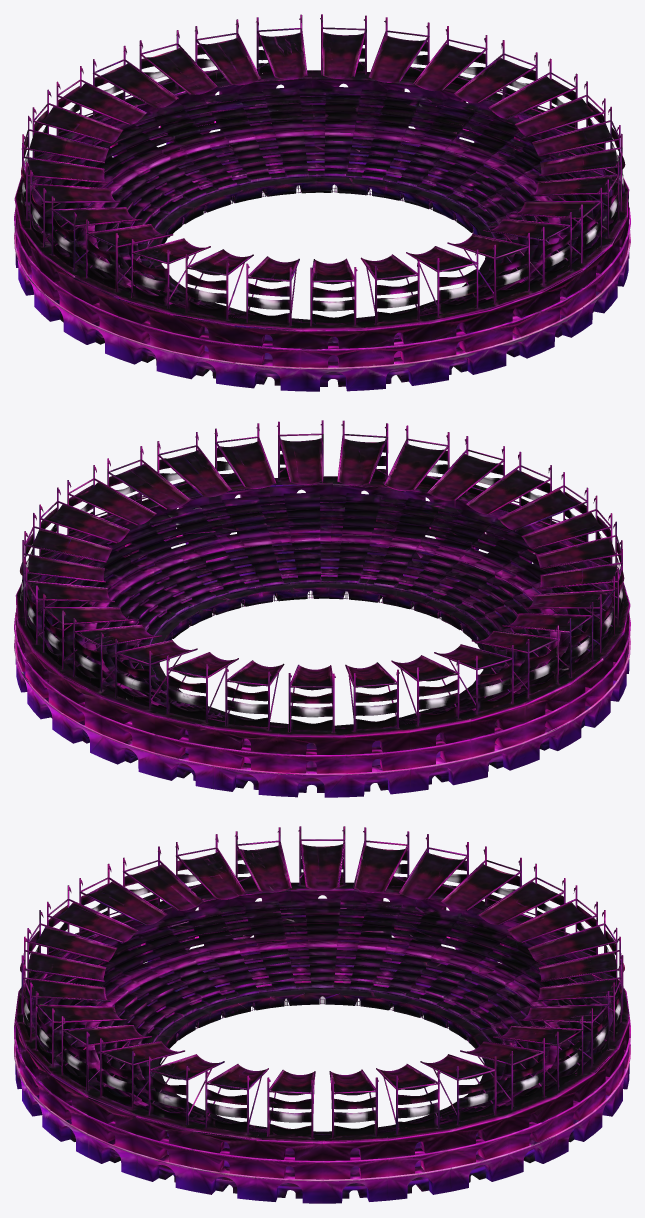
Rendered from arena_inside.glb.
The picture shows the model from 3 angles, top to bottom: view 1: azimuth 30°, elevation 25°; view 2: azimuth 150°, elevation 25°; view 3: azimuth 270°, elevation 25°; orthographic projection.
Bounding box in the file's own units: 2 × 0.4318 × 2.
1 material, 1 textured.
